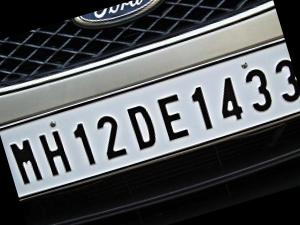plate: (5, 39, 300, 206)
